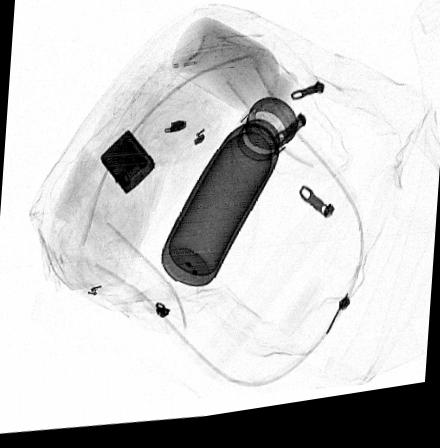Lighter: (100, 133, 155, 199)
